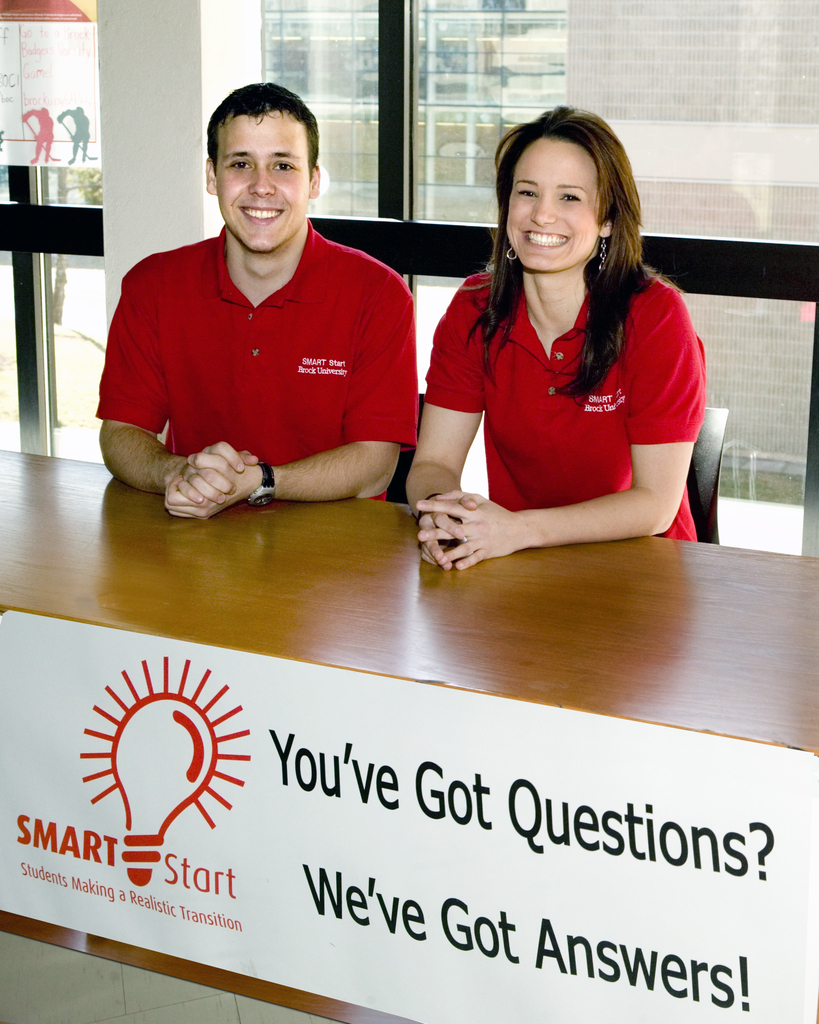Window: (201, 1, 811, 557), (0, 0, 123, 468)
